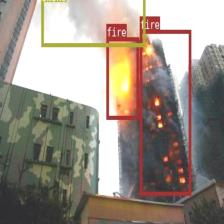fire: (139, 29, 191, 195), (106, 36, 138, 118)
smoke: (40, 0, 145, 46)
